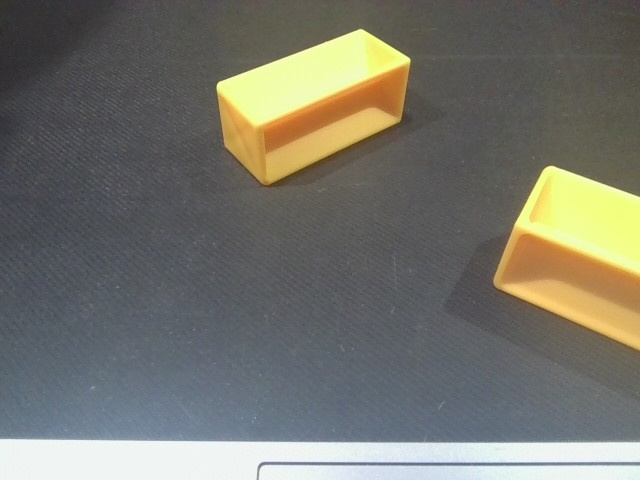YellowSample: (214, 27, 411, 190), (491, 161, 640, 354)
